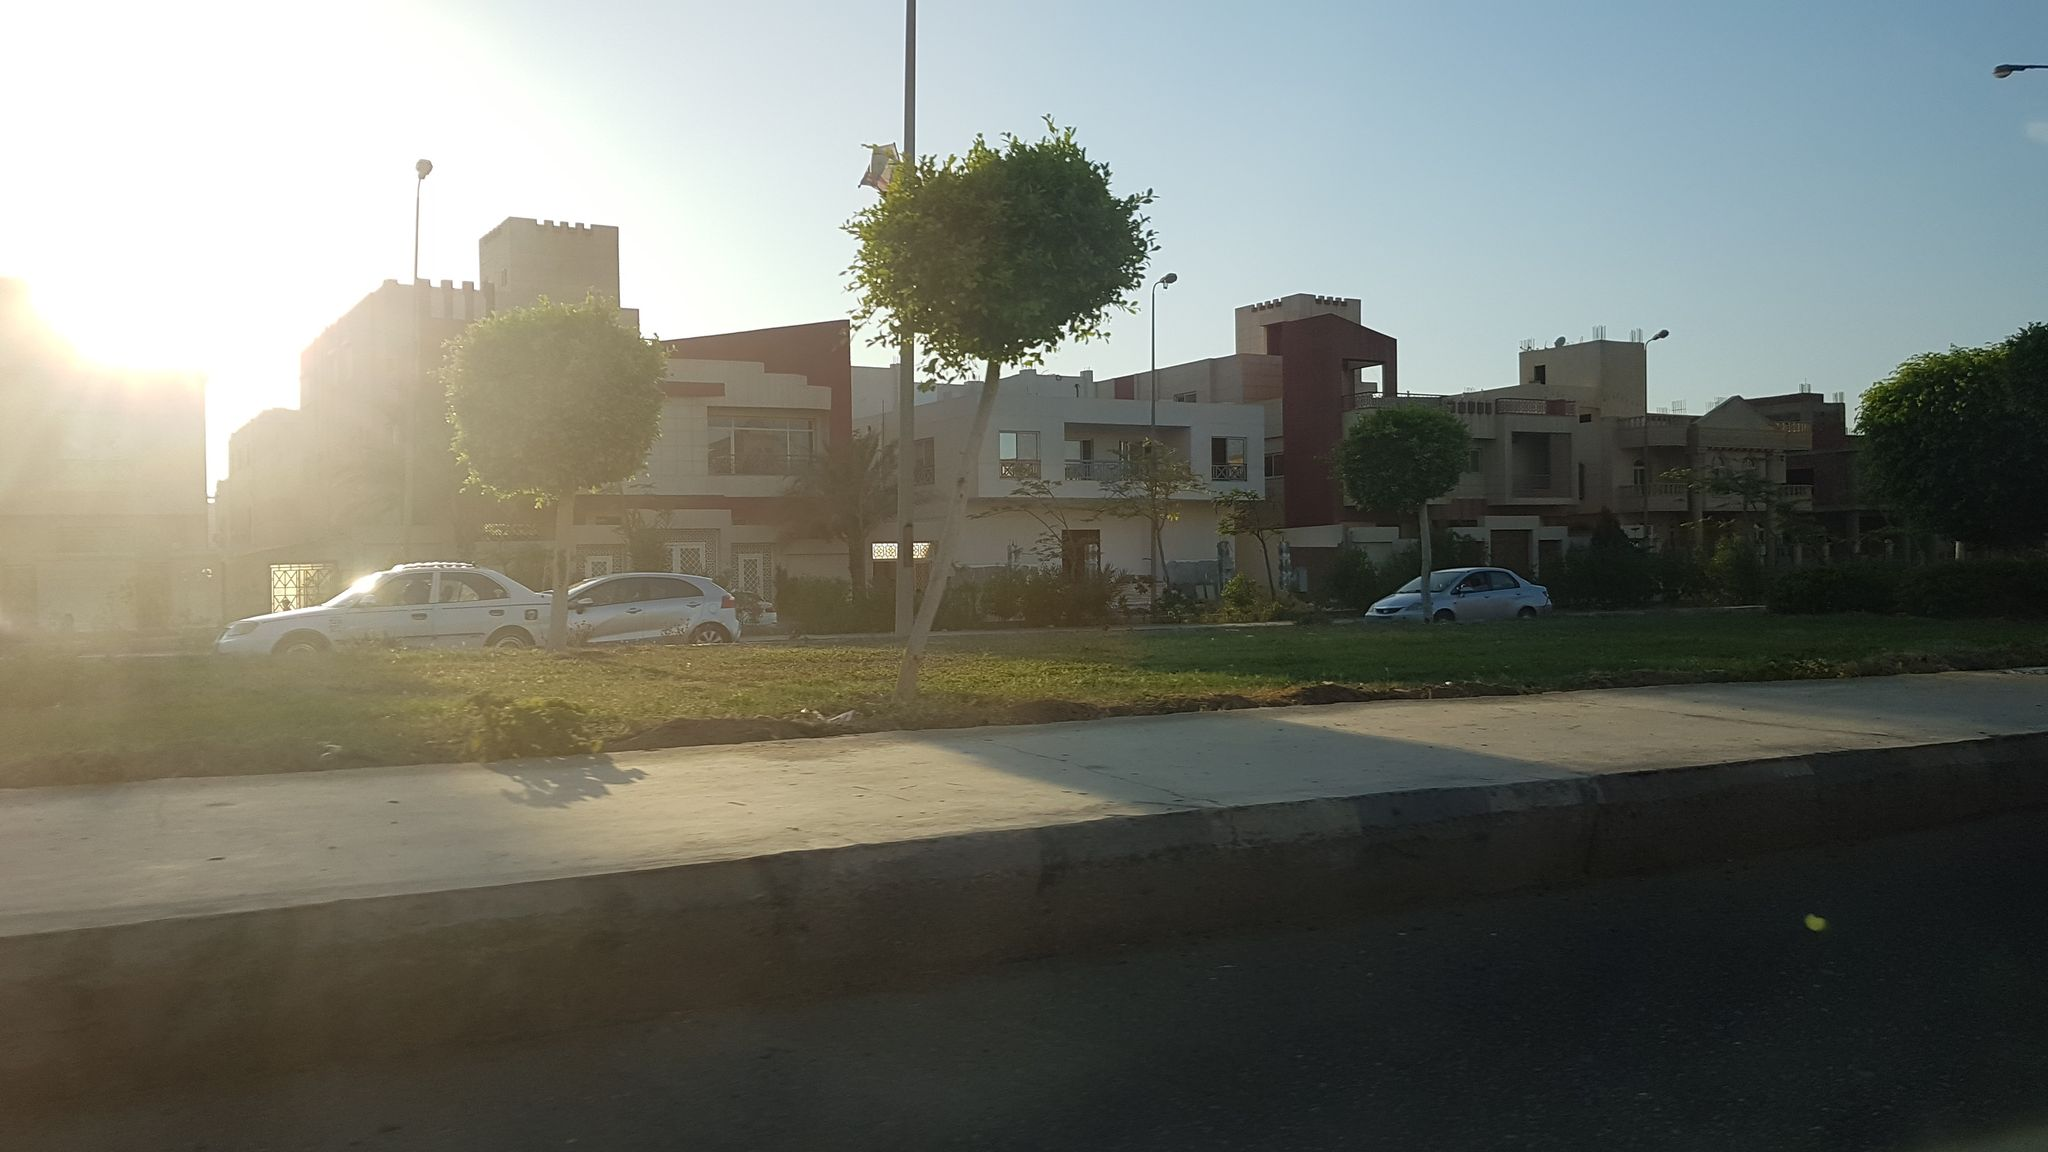car: (215, 558, 560, 653), (542, 568, 743, 648), (1364, 565, 1551, 622), (731, 589, 778, 625)
